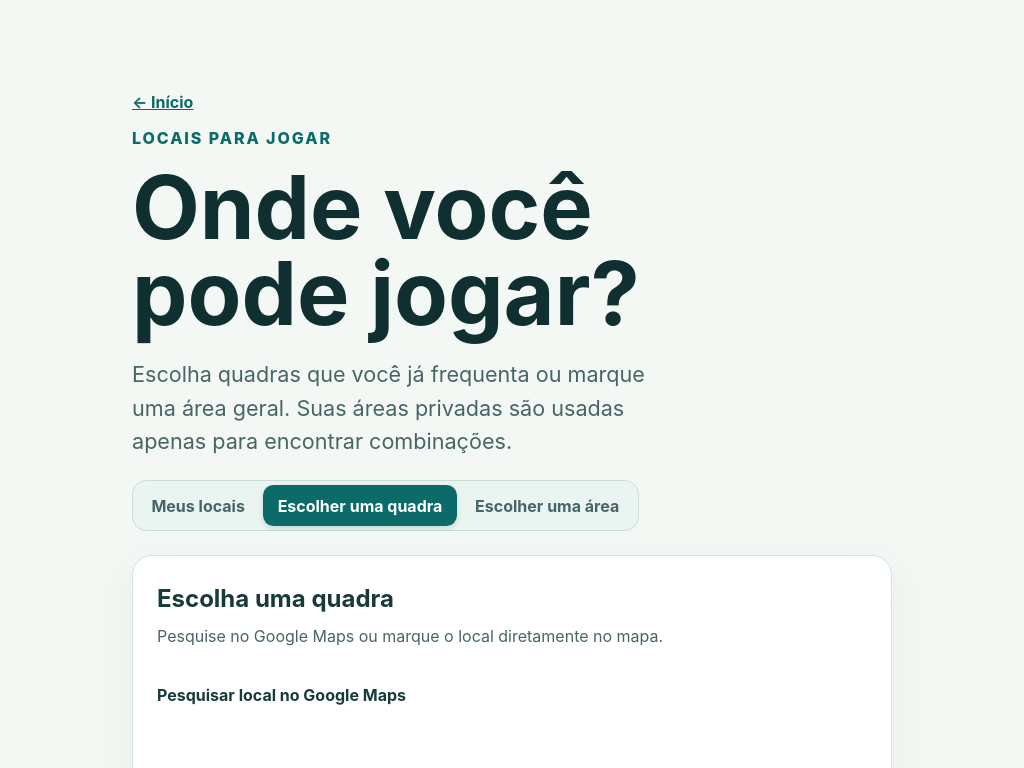
Test: locations page › renders Google map for preferred-area selection
Expected: the heading "Escolha uma quadra" is shown, x1=157 y1=584 x2=394 y2=613
Click the button "Escolher uma área".
click(547, 506)  # box x1=461 y1=485 x2=634 y2=526
(page scrolled)
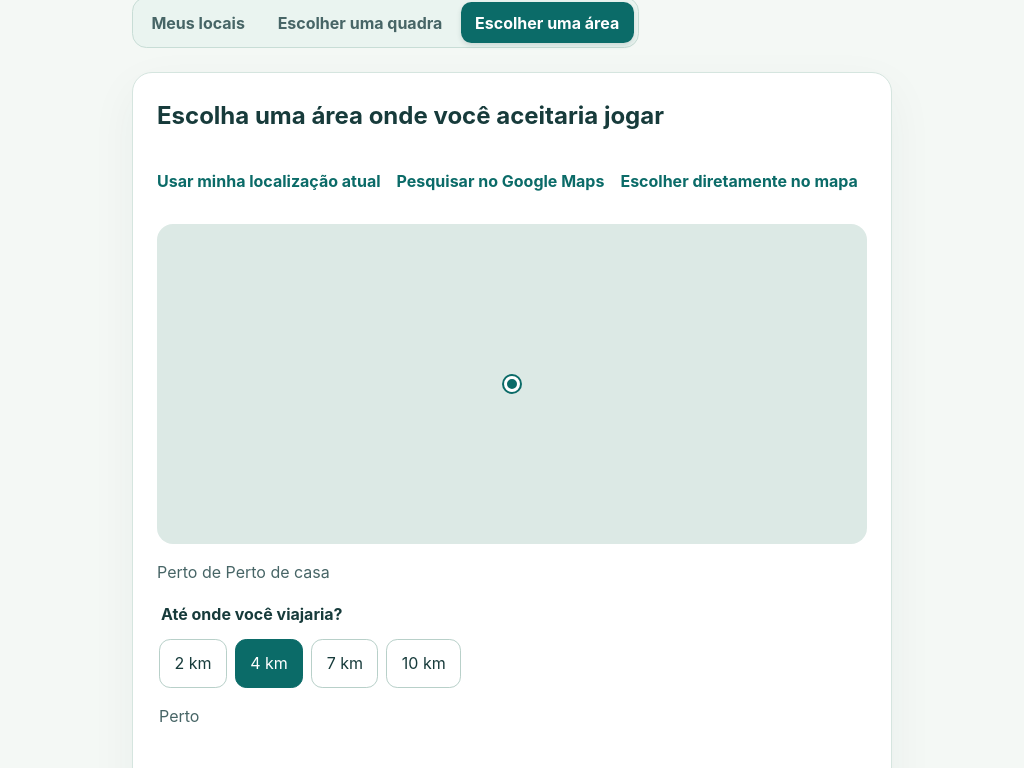
Expected: the element named "mapa para selecionar área" is shown, x1=157 y1=224 x2=867 y2=544
